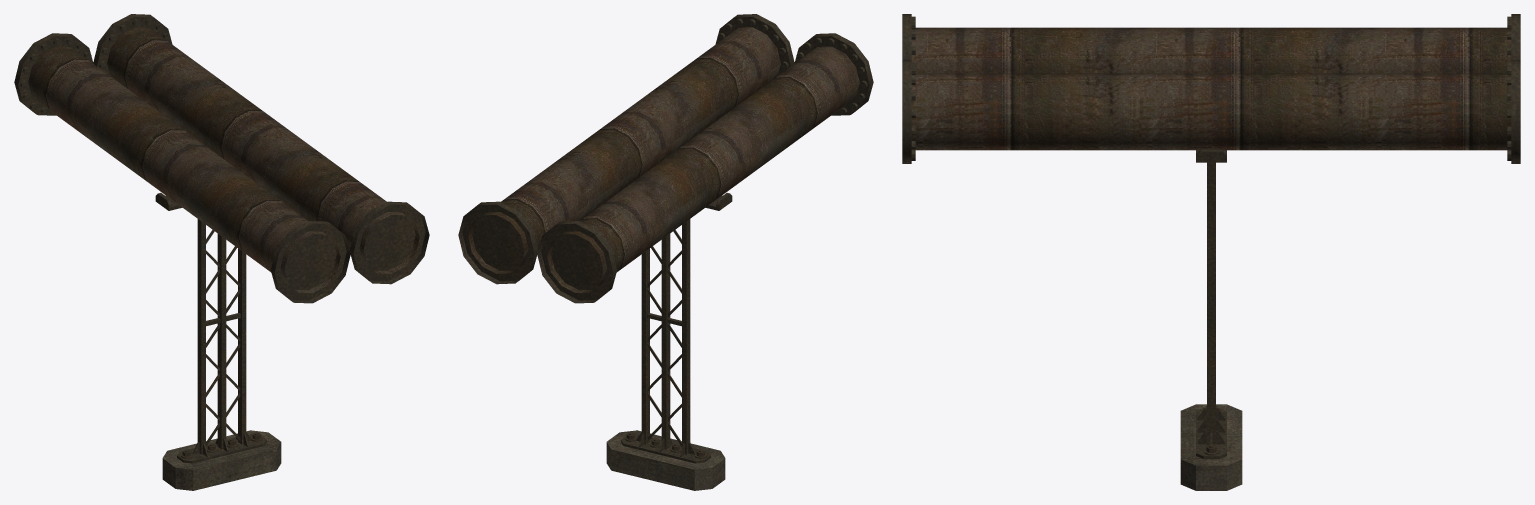
File: pipe_cx_5.obj
3 renders of one model, left to right at view 1: azimuth 30°, elevation 25°; view 2: azimuth 150°, elevation 25°; view 3: azimuth 270°, elevation 25°, orthographic. The views are drawn at different scales.
Parts seen in each view (by area): view 1: pipe_cx_5; view 2: pipe_cx_5; view 3: pipe_cx_5.
Boxes of the visible parts, x1,y1,x2,y2 form: pipe_cx_5: (14, 14, 429, 490); pipe_cx_5: (458, 14, 873, 490); pipe_cx_5: (902, 14, 1520, 490).
Size of the model in its own units: 1.38 by 2.99 by 4.
